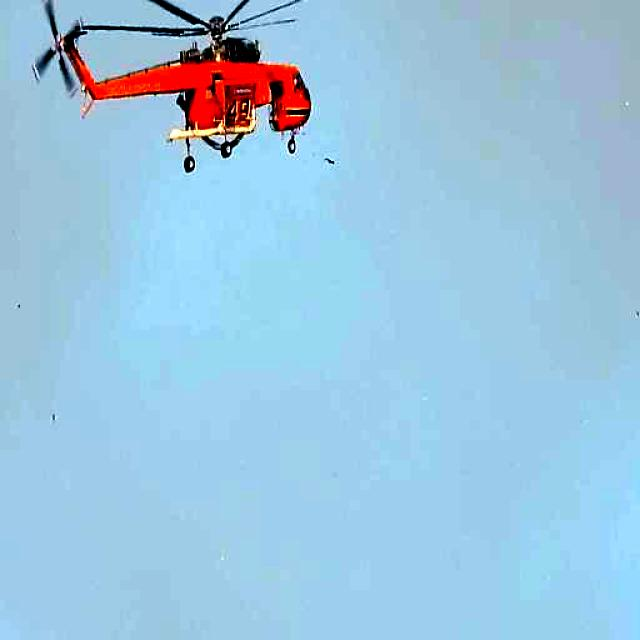drone: (18, 0, 359, 206)
